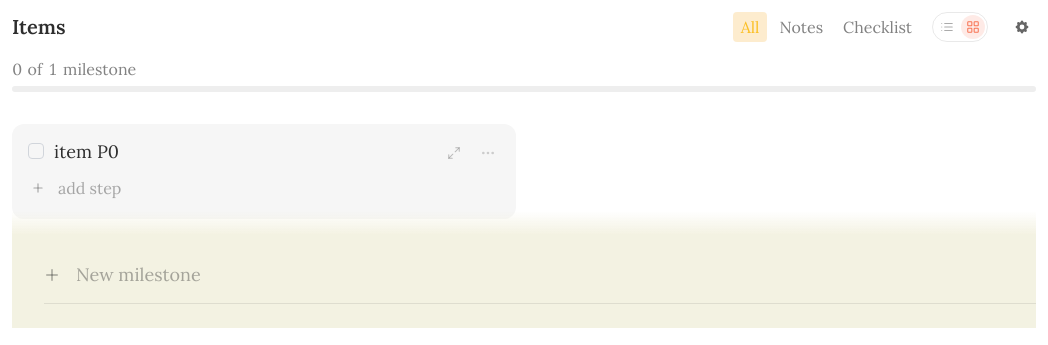
Test: Todo first-milestone invitation › items the filter hides (R47) › should keep "No notes yet." with the composer below when only tasks exist
The width and height of the screenshot is (1048, 345).
Click the button "Notes": (801, 27) [771, 12, 831, 42]
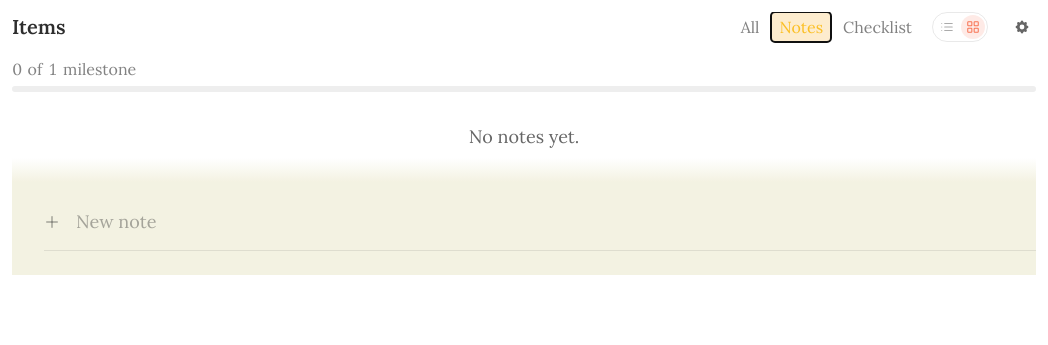
Expected: the text "No notes yet." is shown, [469, 125, 579, 148]
Expected: the button "New note" is shown, [44, 194, 1036, 251]
